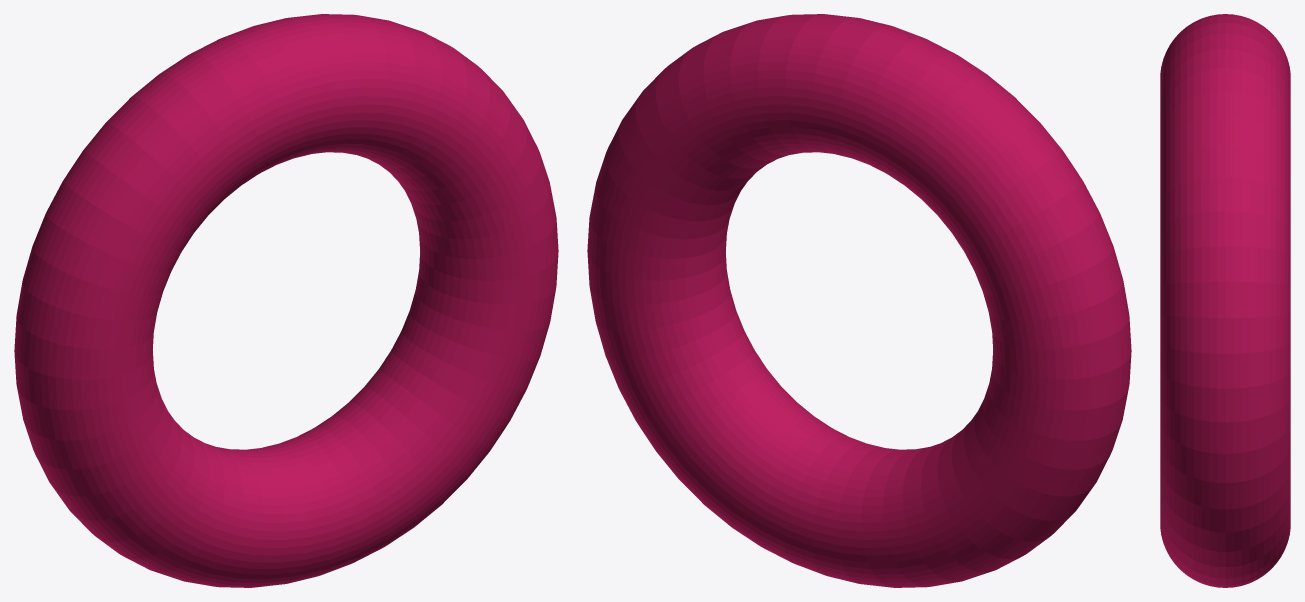
3 renders of one model, left to right at view 1: azimuth 30°, elevation 25°; view 2: azimuth 150°, elevation 25°; view 3: azimuth 270°, elevation 25°, orthographic. The views are drawn at different scales.
Visible parts, largest first — view 1: world; view 2: world; view 3: world.
Boxes of the visible parts, bbox=[...] form: world: bbox=[14, 14, 558, 587]; world: bbox=[587, 14, 1131, 587]; world: bbox=[1160, 14, 1290, 587].
Bounding box in the file's own units: 38 × 37.93 × 8.65.
